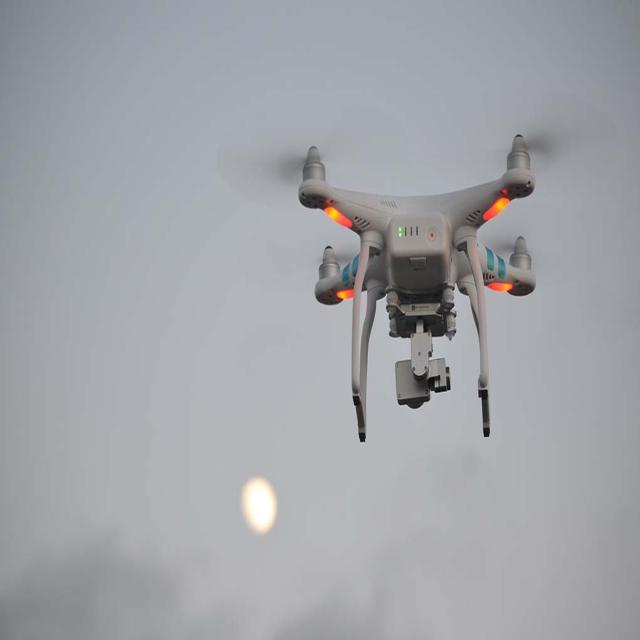drone: (216, 112, 610, 441)
